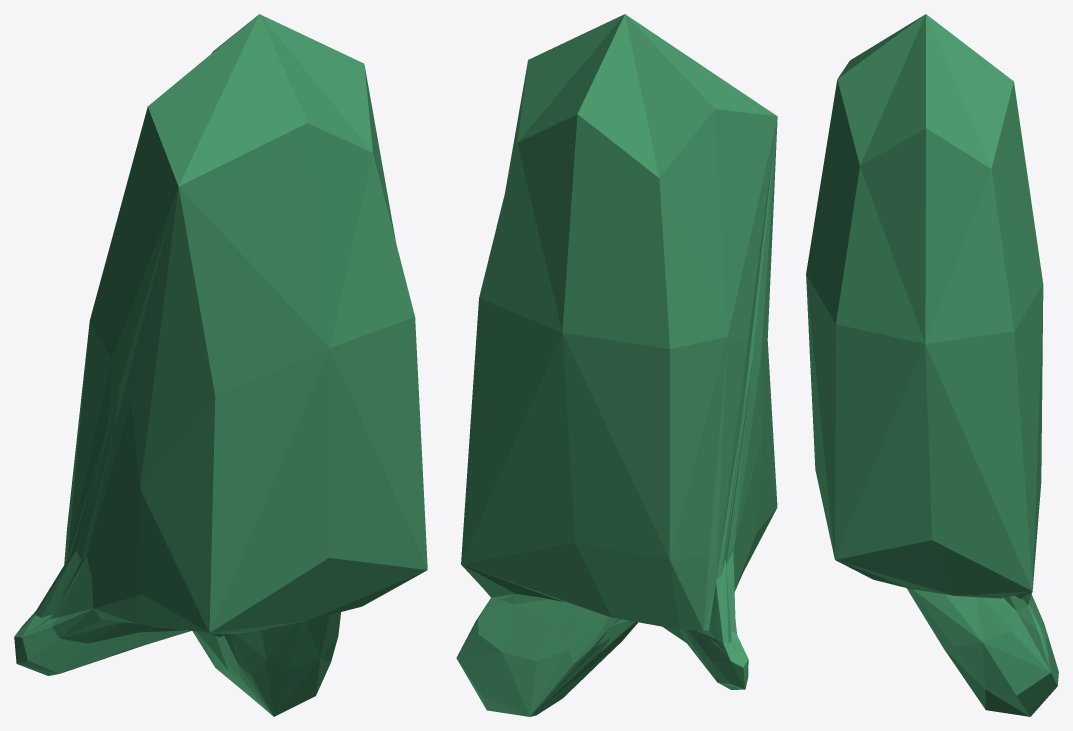
3 renders of one model, left to right at view 1: azimuth 30°, elevation 25°; view 2: azimuth 150°, elevation 25°; view 3: azimuth 270°, elevation 25°, orthographic. The views are drawn at different scales.
Visible parts, largest first — view 1: 561_Cube.2261; view 2: 561_Cube.2261; view 3: 561_Cube.2261.
Part boxes in pixels (bbox=[...]): 561_Cube.2261: bbox=[14, 14, 427, 716]; 561_Cube.2261: bbox=[456, 14, 777, 716]; 561_Cube.2261: bbox=[806, 14, 1058, 716].
Size of the model in its own units: 7.11 by 15.17 by 5.25.
